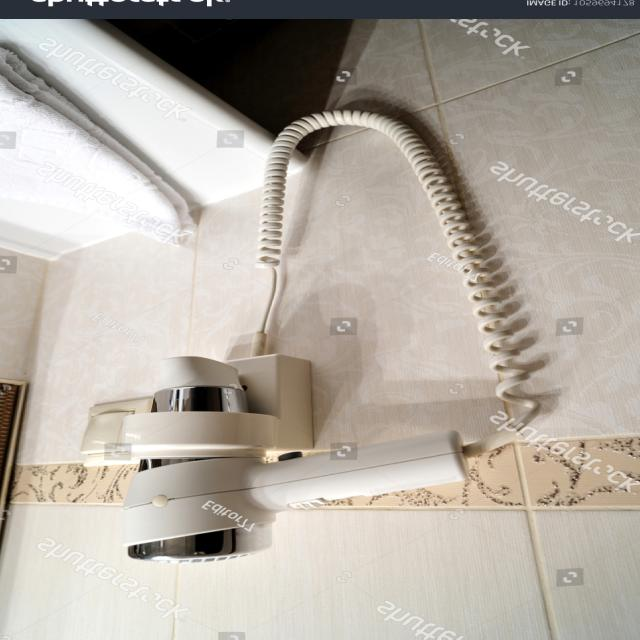dryer: (79, 97, 553, 583), (105, 347, 495, 567)
